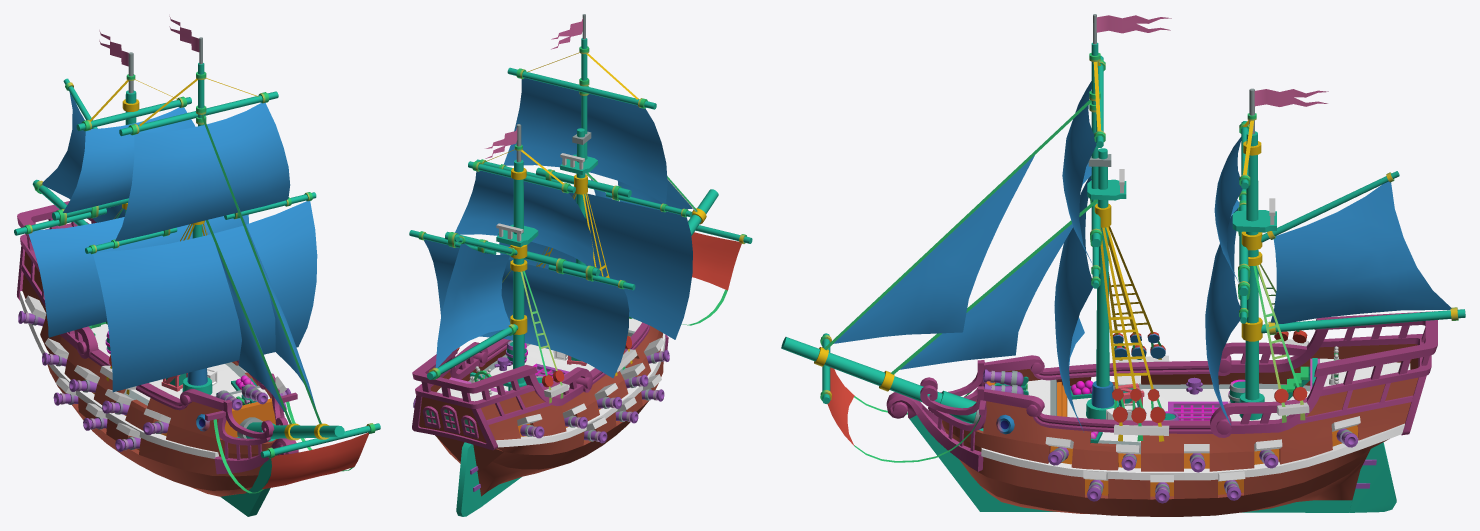
File: Frigate.fbx
The picture shows the model from 3 angles, left to right: view 1: azimuth 30°, elevation 25°; view 2: azimuth 150°, elevation 25°; view 3: azimuth 270°, elevation 25°; orthographic projection. The views are drawn at different scales.
Visible parts, largest first — view 1: Sails, Frigate, Cannon_group, Upgrade_01, Props, Flags; view 2: Sails, Frigate, Cannon_group, Upgrade_02, Rudder, Upgrade_01, Props, Flags; view 3: Frigate, Sails, Upgrade_01, Cannon_group, Rudder, Flags, Props, Upgrade_02.
Boxes of the visible parts, <box> form: Sails: <box>28,92,368,489</box>; Frigate: <box>14,37,380,516</box>; Cannon_group: <box>18,311,291,451</box>; Upgrade_01: <box>20,291,218,458</box>; Props: <box>105,331,256,403</box>; Flags: <box>99,16,199,66</box>; Sails: <box>424,78,741,378</box>; Frigate: <box>409,14,752,505</box>; Cannon_group: <box>413,317,669,443</box>; Upgrade_02: <box>422,395,551,438</box>; Rudder: <box>456,442,482,516</box>; Upgrade_01: <box>495,333,665,447</box>; Props: <box>470,340,586,394</box>; Flags: <box>485,18,582,158</box>; Frigate: <box>781,14,1465,516</box>; Sails: <box>827,81,1451,445</box>; Upgrade_01: <box>981,423,1404,480</box>; Cannon_group: <box>983,369,1358,503</box>; Rudder: <box>1349,442,1396,512</box>; Flags: <box>1096,15,1328,106</box>; Props: <box>1070,346,1338,443</box>; Upgrade_02: <box>1298,383,1413,424</box>.
Bounding box in the file's own units: 1110 × 1963 × 2456.
